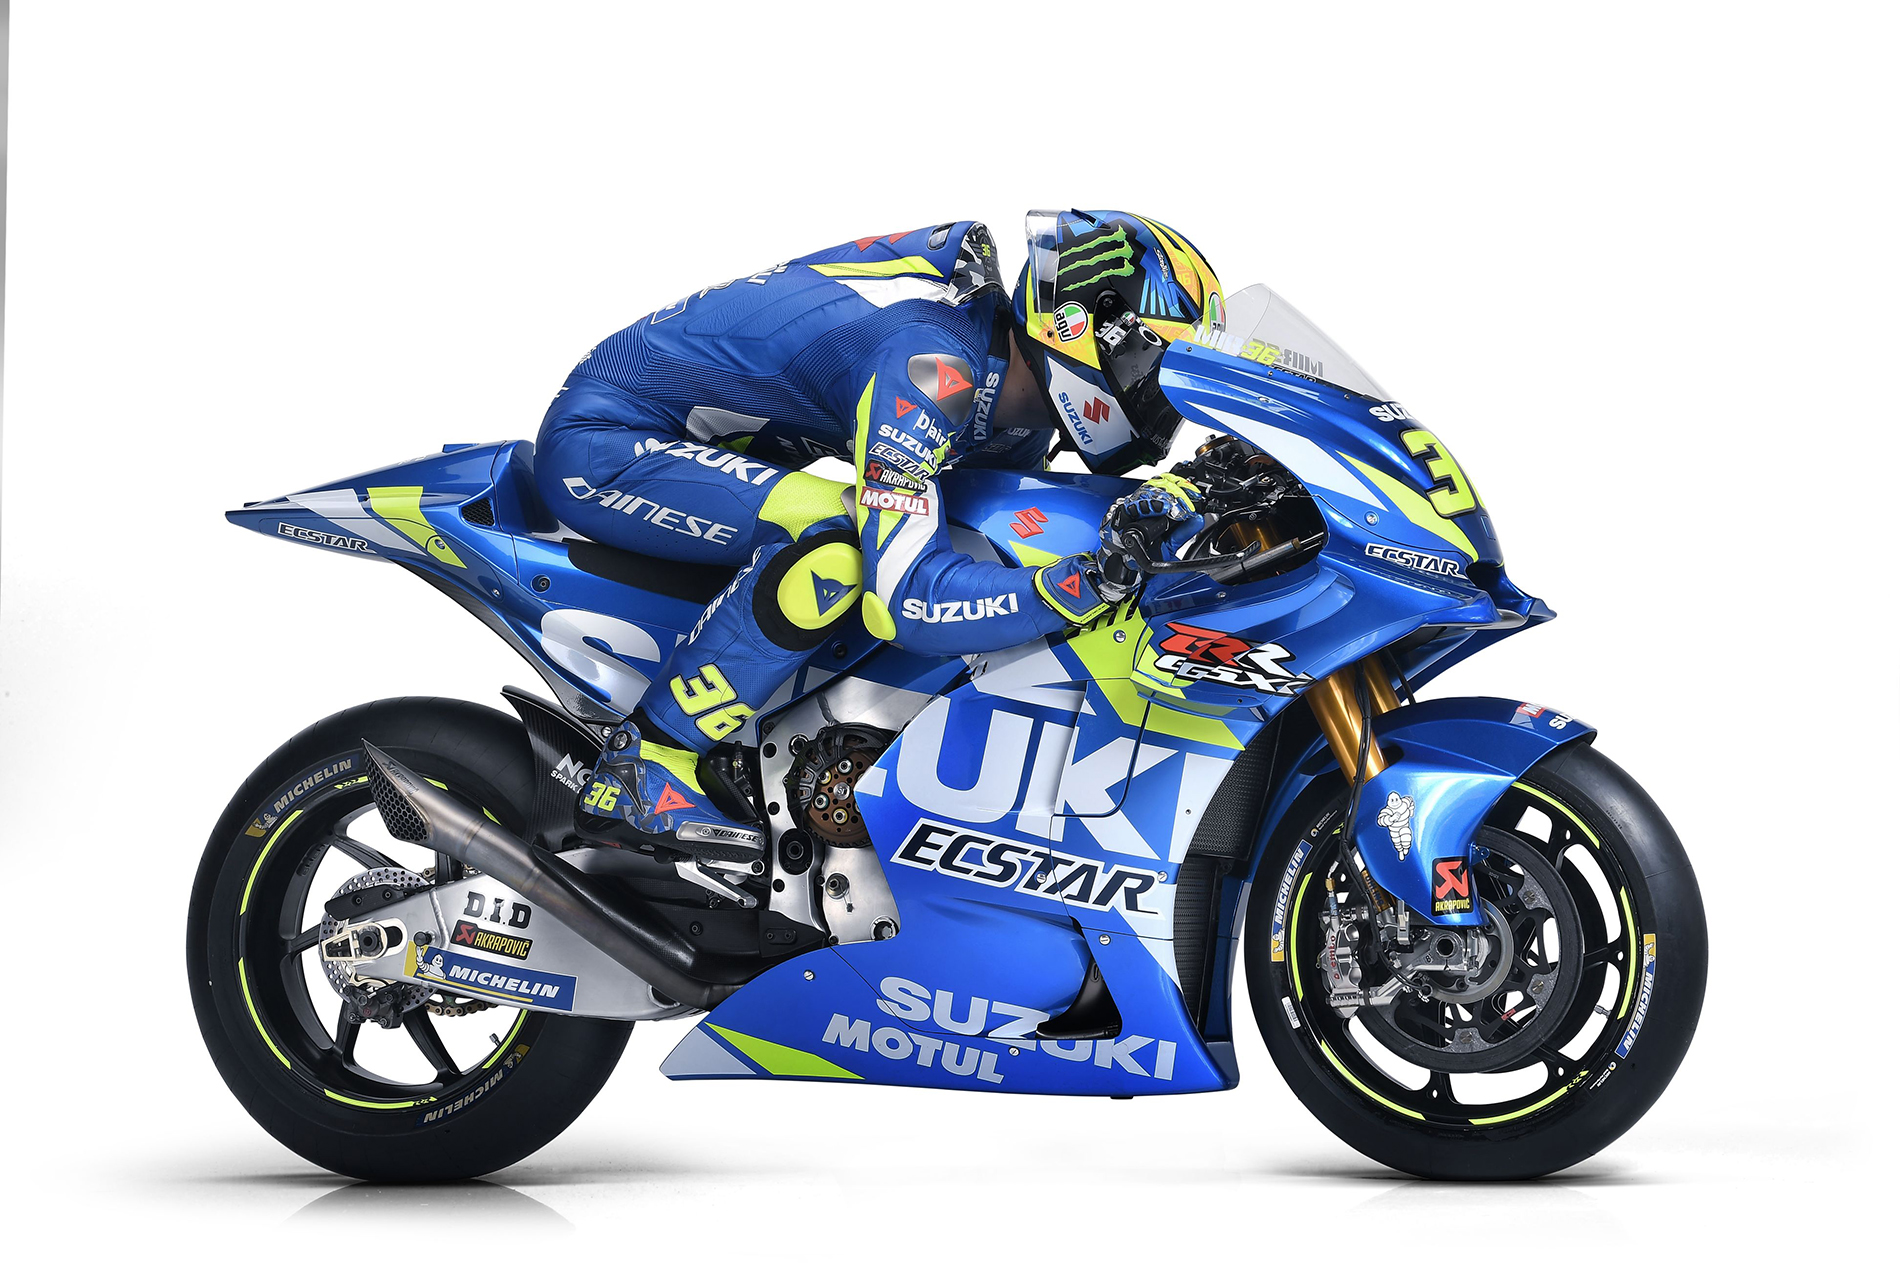helmet: (1019, 163, 1173, 468)
